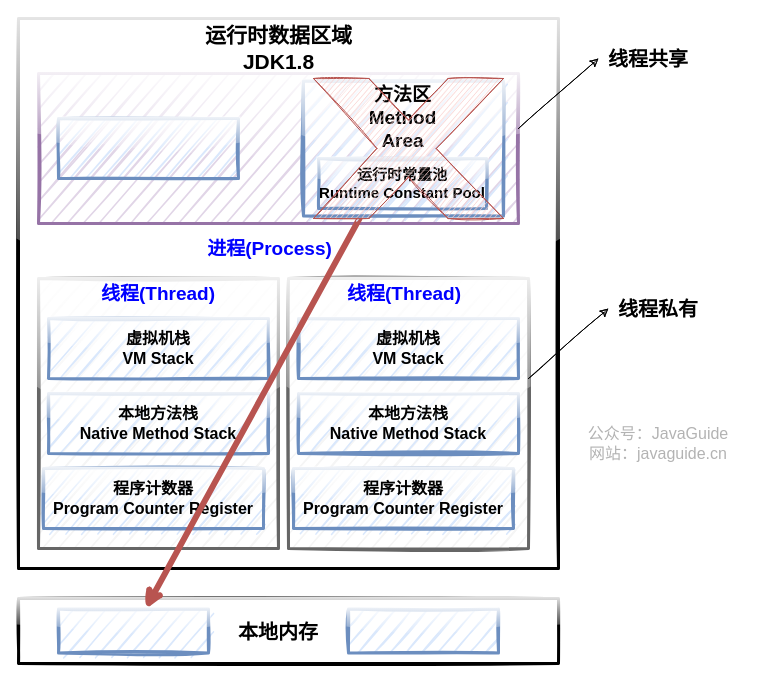
This 761x682 diagram has some shape labels left out. Here are the shapes that lost their labels. From the top down, the box of each, then its label:
(56, 116, 240, 180): 堆 Heap
(56, 607, 210, 654): 元空间 Metaspace
(346, 607, 500, 654): 直接内存 Direct Memory
